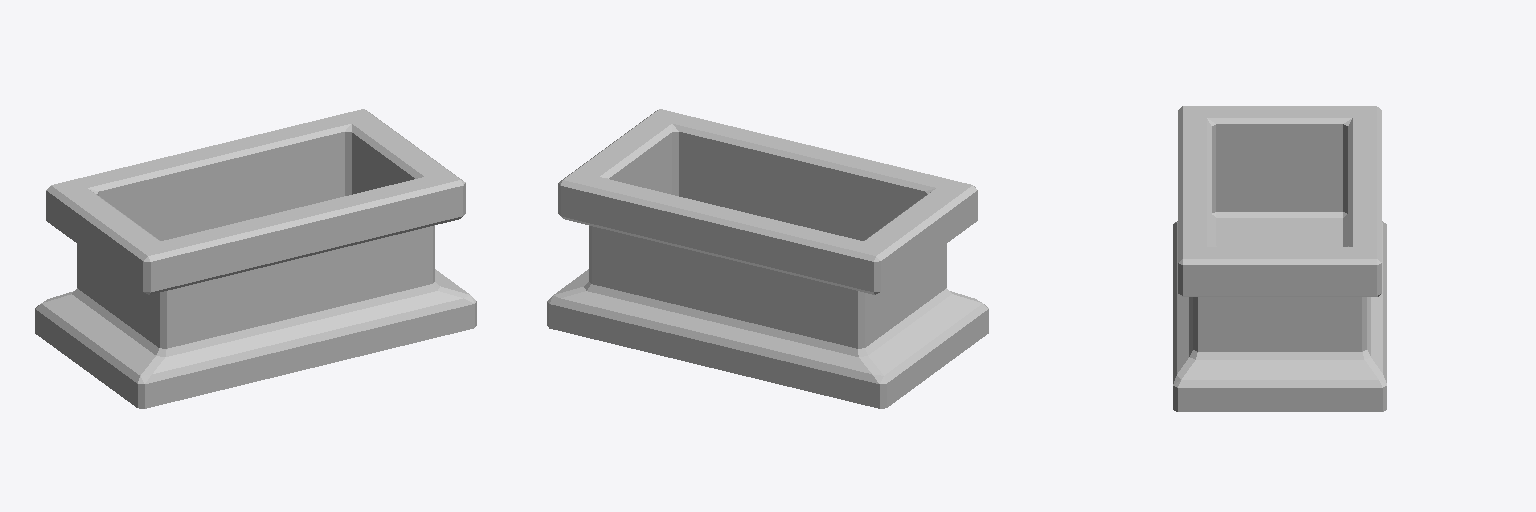
Rendered from GraveB_1_1.obj.
3 renders of one model, left to right at view 1: azimuth 30°, elevation 25°; view 2: azimuth 150°, elevation 25°; view 3: azimuth 270°, elevation 25°, orthographic.
Visible parts, largest first — view 1: GraveB_1_1; view 2: GraveB_1_1; view 3: GraveB_1_1.
Boxes of the visible parts, x1,y1,x2,y2 form: GraveB_1_1: [35, 109, 476, 408]; GraveB_1_1: [547, 109, 988, 408]; GraveB_1_1: [1173, 106, 1386, 411].
Bounding box in the file's own units: 1.77 × 0.7311 × 0.9677.